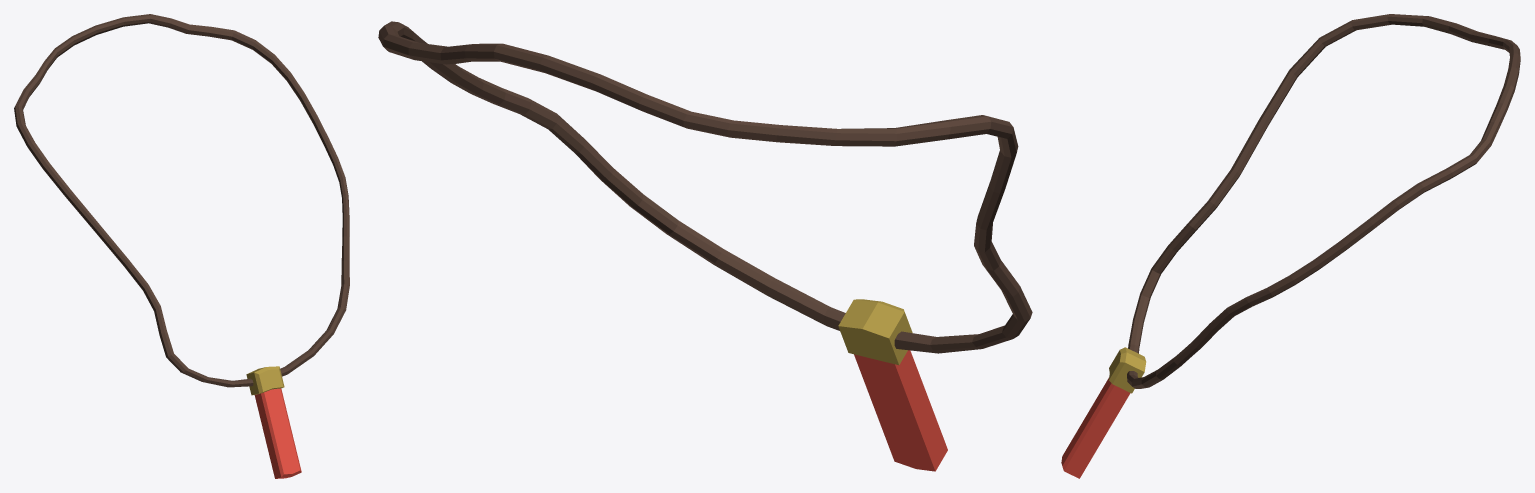
File: necklace2.glb
3 renders of one model, left to right at view 1: azimuth 30°, elevation 25°; view 2: azimuth 150°, elevation 25°; view 3: azimuth 270°, elevation 25°, orthographic. The views are drawn at different scales.
Parts seen in each view (by area): view 1: Necklace2; view 2: Necklace2; view 3: Necklace2.
Boxes of the visible parts, left/top/right/bottom form: Necklace2: left=14, top=14, right=349, bottom=478; Necklace2: left=378, top=21, right=1032, bottom=471; Necklace2: left=1061, top=14, right=1520, bottom=478.
Size of the model in its own units: 0.91 by 1 by 1.01.
